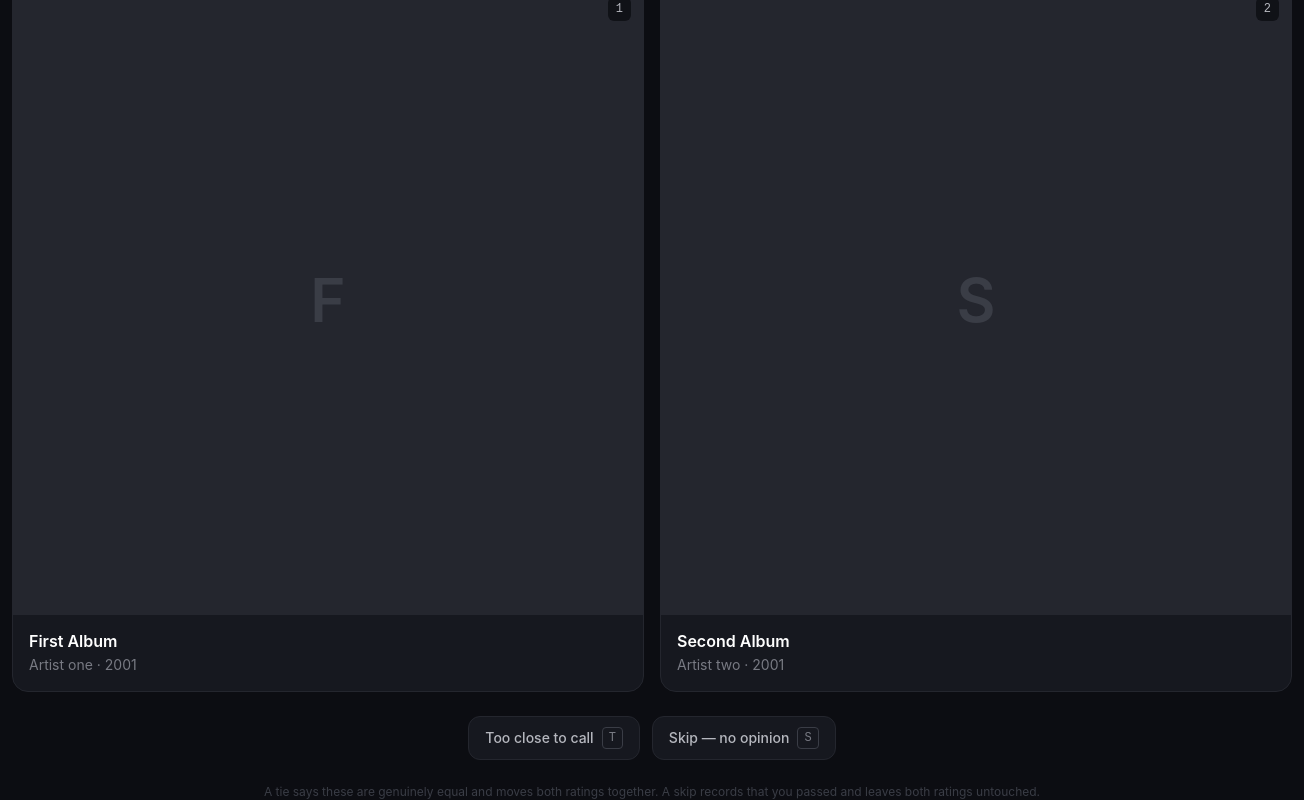
Test: CompareView › surfaces a write failure instead of silently losing the vote
(page scrolled)
Click the button "Skip — no opinion S" at (744, 738), box [652,716,836,760]
(page scrolled)
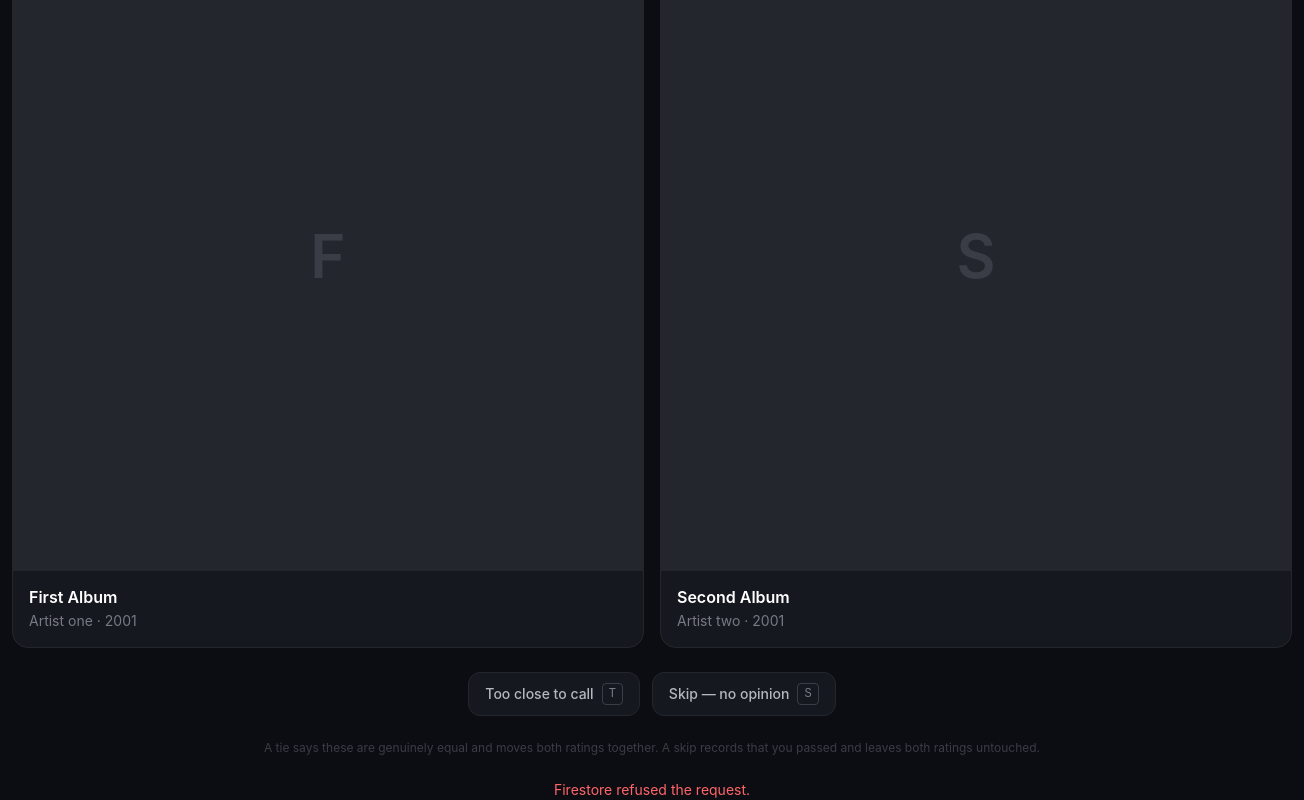
Check: the text "Firestore refused the request." is shown, box [554,781,750,798]
